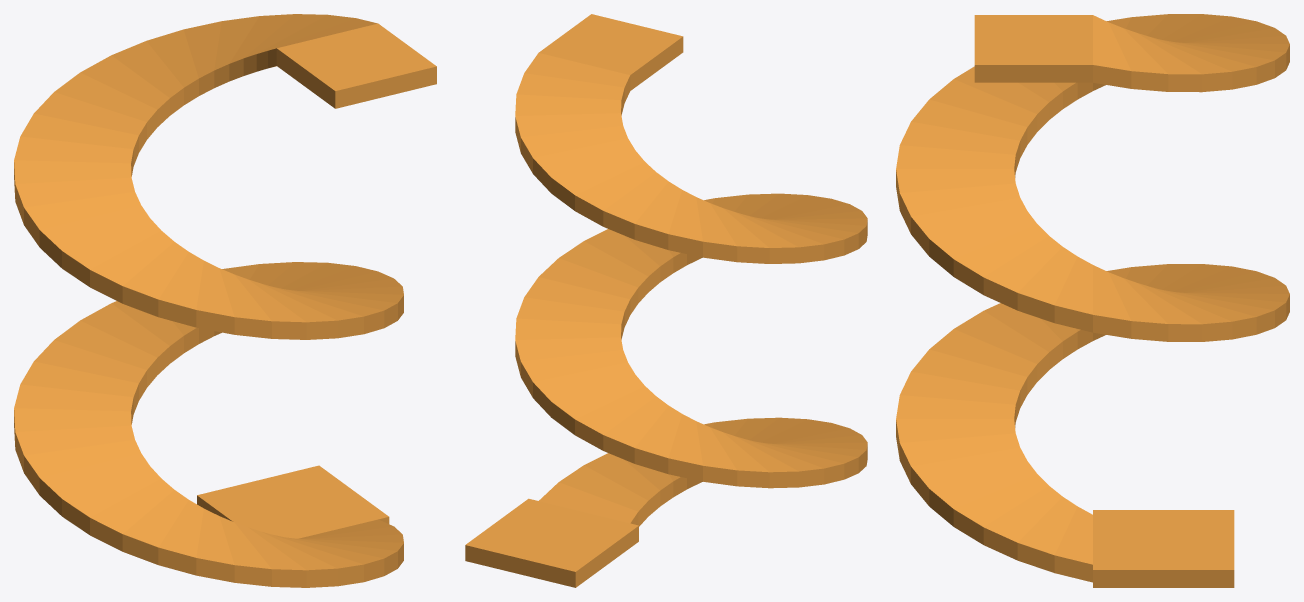
3 views of the same model, side by side, from view 1: azimuth 30°, elevation 25°; view 2: azimuth 150°, elevation 25°; view 3: azimuth 270°, elevation 25° (orthographic). The views are drawn at different scales.
Visible parts, largest first — view 1: Plane, Cube, Cube.001; view 2: Plane, Cube.001, Cube; view 3: Plane, Cube.001, Cube.
Part boxes in pixels (x1,y1,x2,y2): Plane: (14, 14, 403, 587); Cube: (276, 23, 436, 108); Cube.001: (197, 465, 389, 538); Plane: (515, 53, 867, 526); Cube.001: (465, 498, 638, 587); Cube: (539, 14, 683, 90); Plane: (896, 14, 1289, 582); Cube.001: (1093, 510, 1234, 587); Cube: (974, 15, 1092, 82).
Size of the model in its own units: 35.1 by 49.3 by 34.
1 material, 1 textured.
